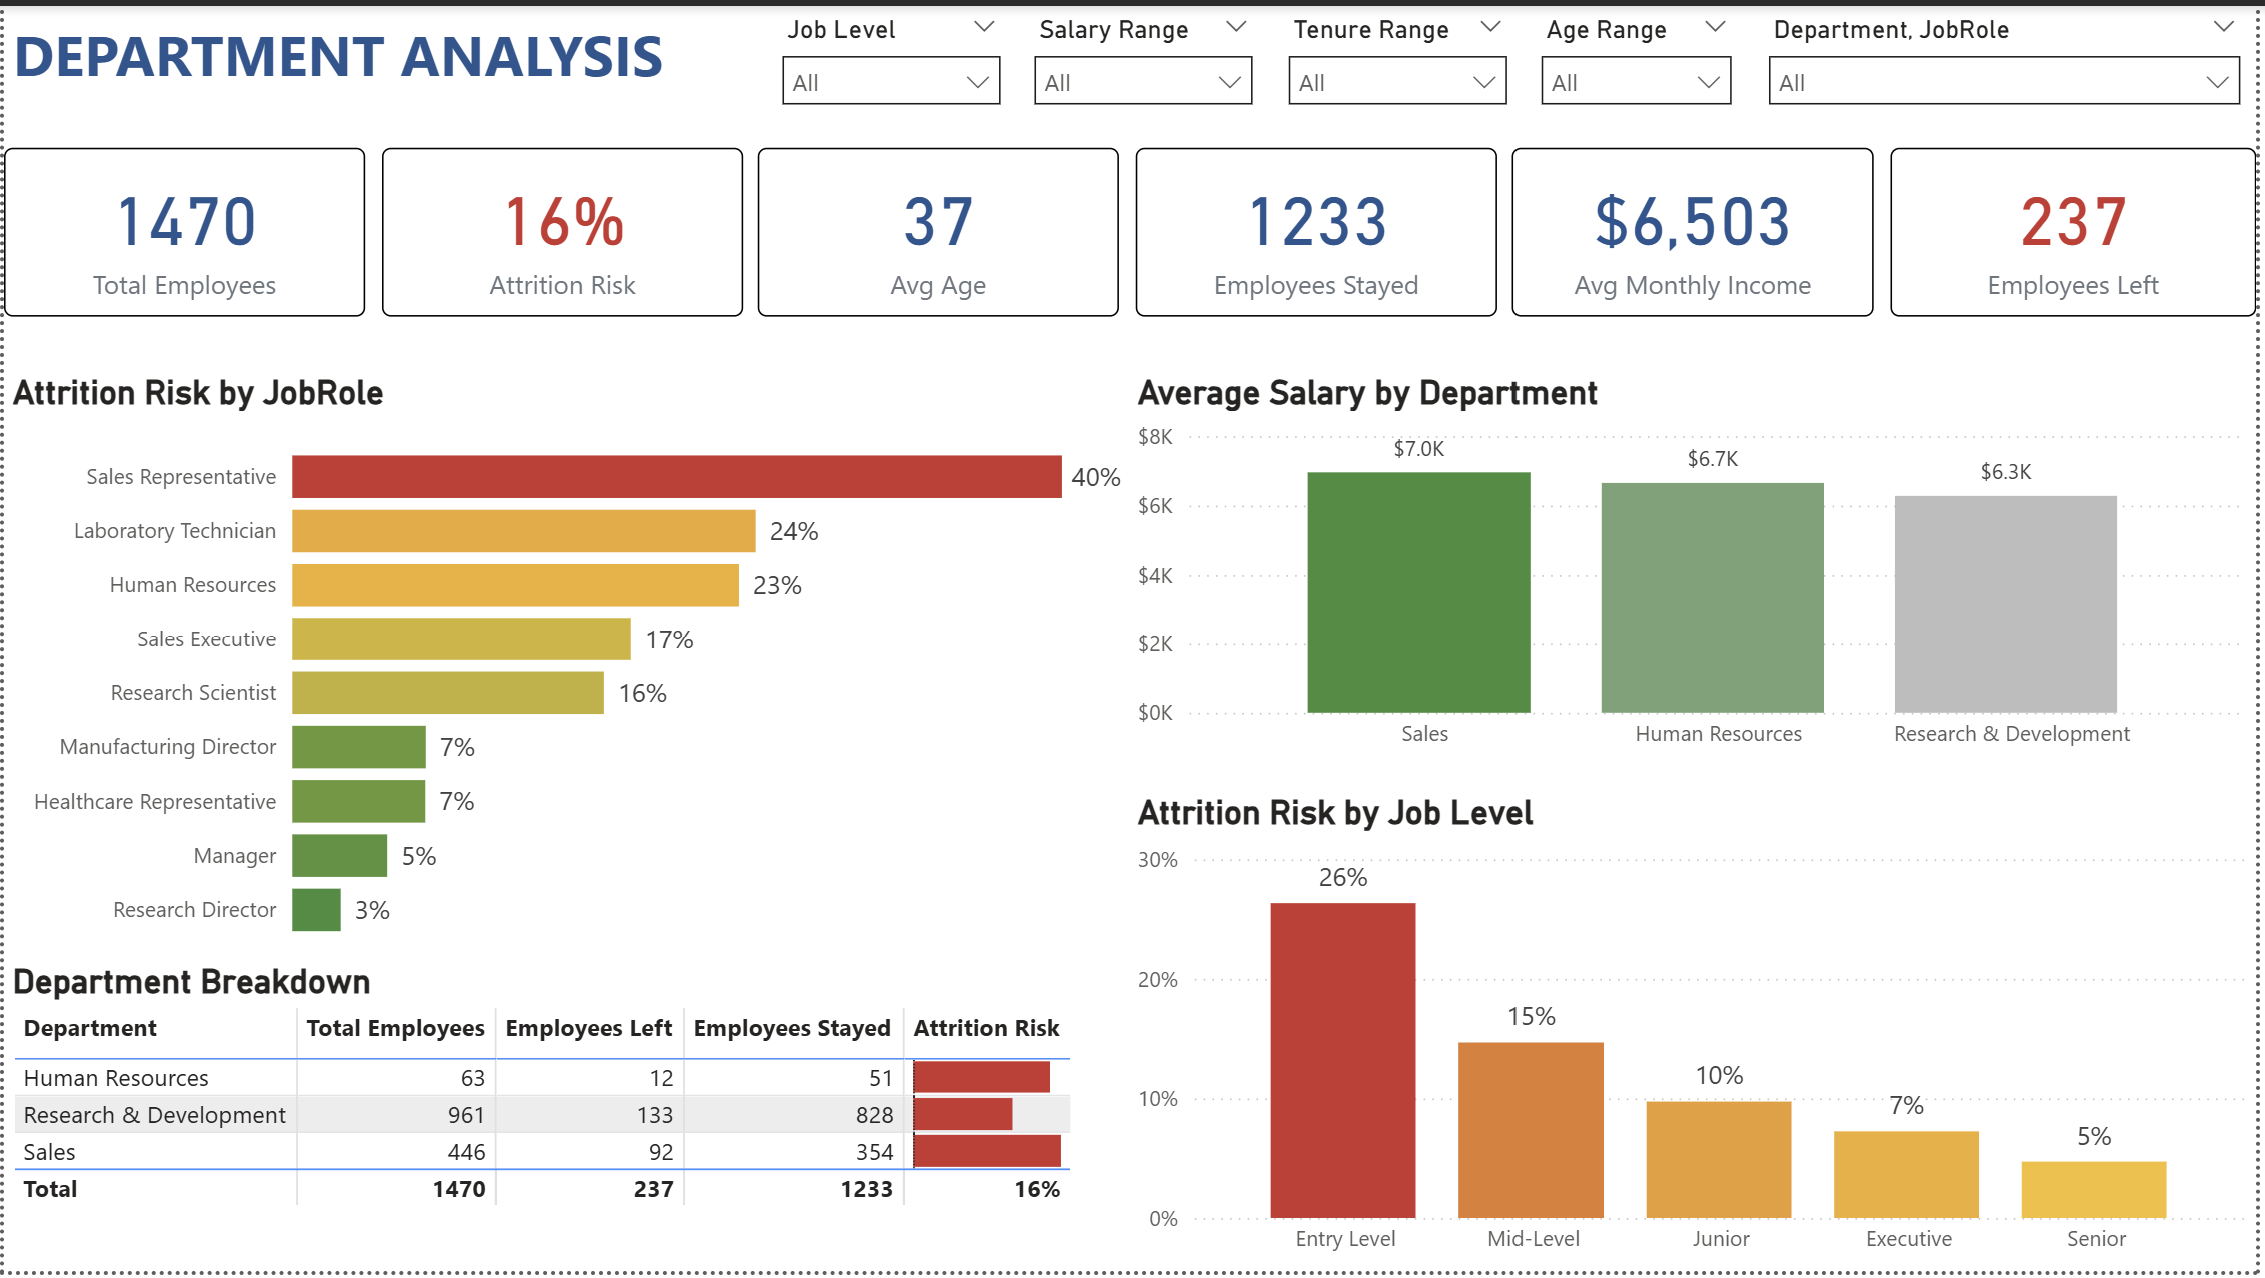

The page's visual inventory and layout, read from the dashboard file:
{"tool":"powerbi","page":{"name":"DEPARTMENT ANALYSIS","canvas":[1280,720],"ordinal":1},"visuals":[{"type":"textbox","box":[0,0,640,64],"z":0},{"type":"card","fields":{"Values":["Turnover.Total Employees"]},"box":[0,80,205.3,96],"z":1000,"group":"g1"},{"type":"clusteredBarChart","fields":{"Y":["Turnover.Attrition Risk"],"Category":["Turnover.JobRole"]},"box":[0,208,640,336],"z":1000},{"type":"card","fields":{"Values":["Turnover.Attrition Risk"]},"box":[214.4,80,205.3,96],"z":2000,"group":"g1"},{"type":"tableEx","title":"Department Breakdown","fields":{"Values":["Turnover.Department","Turnover.Total Employees","Turnover.Employees Left","Turnover.Employees Stayed","Turnover.Attrition Risk"]},"box":[0,544,640,176],"z":2000},{"type":"card","fields":{"Values":["Turnover.Avg Age"]},"box":[428.8,80,205.3,96],"z":3000,"group":"g1"},{"type":"clusteredColumnChart","title":"Average Salary by Department","fields":{"Category":["Turnover.Department"],"Y":["Turnover.Avg Monthly Income"]},"box":[640,208,640,224],"z":3000},{"type":"card","fields":{"Values":["Turnover.Employees Stayed"]},"box":[643.2,80,205.3,96],"z":4000,"group":"g1"},{"type":"clusteredColumnChart","title":"Attrition Risk by Job Level","fields":{"Y":["Turnover.Attrition Risk"],"Category":["Turnover.Job Level Text"]},"box":[640,448,640,272],"z":4000},{"type":"group","id":"g1","title":"Group 3","box":[0,80,1280,96],"z":5000},{"type":"card","fields":{"Values":["Turnover.Employees Left"]},"box":[1072,80,208,96],"z":5000,"group":"g1"},{"type":"slicer","fields":{"Values":["Turnover.Age Group"]},"box":[864,0,128,64],"z":6000},{"type":"card","fields":{"Values":["Turnover.Avg Monthly Income"]},"box":[857.6,80,205.3,96],"z":6000,"group":"g1"},{"type":"slicer","fields":{"Values":["Turnover.Tenure Group"]},"box":[720,0,144,64],"z":7000},{"type":"slicer","fields":{"Values":["Turnover.Department","Turnover.JobRole"]},"box":[992,0,288,64],"z":8000},{"type":"slicer","fields":{"Values":["Turnover.Salary Band"]},"box":[576,0,144,64],"z":9000},{"type":"slicer","fields":{"Values":["Turnover.Job Level Text"]},"box":[432,0,144,64],"z":10000}]}

Visuals, with their boxes in screenshot pixels (x1, y1, x2, y2), scaled from the page's 1280x720 canvas onto the 2265x1278 screenshot:
textbox: x1=0 y1=0 x2=1132 y2=114
card - Turnover.Total Employees: x1=0 y1=142 x2=363 y2=312
clusteredBarChart - Turnover.Attrition Risk x Turnover.JobRole: x1=0 y1=369 x2=1132 y2=966
card - Turnover.Attrition Risk: x1=379 y1=142 x2=743 y2=312
"Department Breakdown" tableEx: x1=0 y1=966 x2=1132 y2=1277
card - Turnover.Avg Age: x1=759 y1=142 x2=1122 y2=312
"Average Salary by Department" clusteredColumnChart: x1=1132 y1=369 x2=2264 y2=767
card - Turnover.Employees Stayed: x1=1138 y1=142 x2=1501 y2=312
"Attrition Risk by Job Level" clusteredColumnChart: x1=1132 y1=795 x2=2264 y2=1277
"Group 3" group: x1=0 y1=142 x2=2264 y2=312
card - Turnover.Employees Left: x1=1897 y1=142 x2=2264 y2=312
slicer - Turnover.Age Group: x1=1529 y1=0 x2=1755 y2=114
card - Turnover.Avg Monthly Income: x1=1518 y1=142 x2=1881 y2=312
slicer - Turnover.Tenure Group: x1=1274 y1=0 x2=1529 y2=114
slicer - Turnover.Department x Turnover.JobRole: x1=1755 y1=0 x2=2264 y2=114
slicer - Turnover.Salary Band: x1=1019 y1=0 x2=1274 y2=114
slicer - Turnover.Job Level Text: x1=764 y1=0 x2=1019 y2=114
